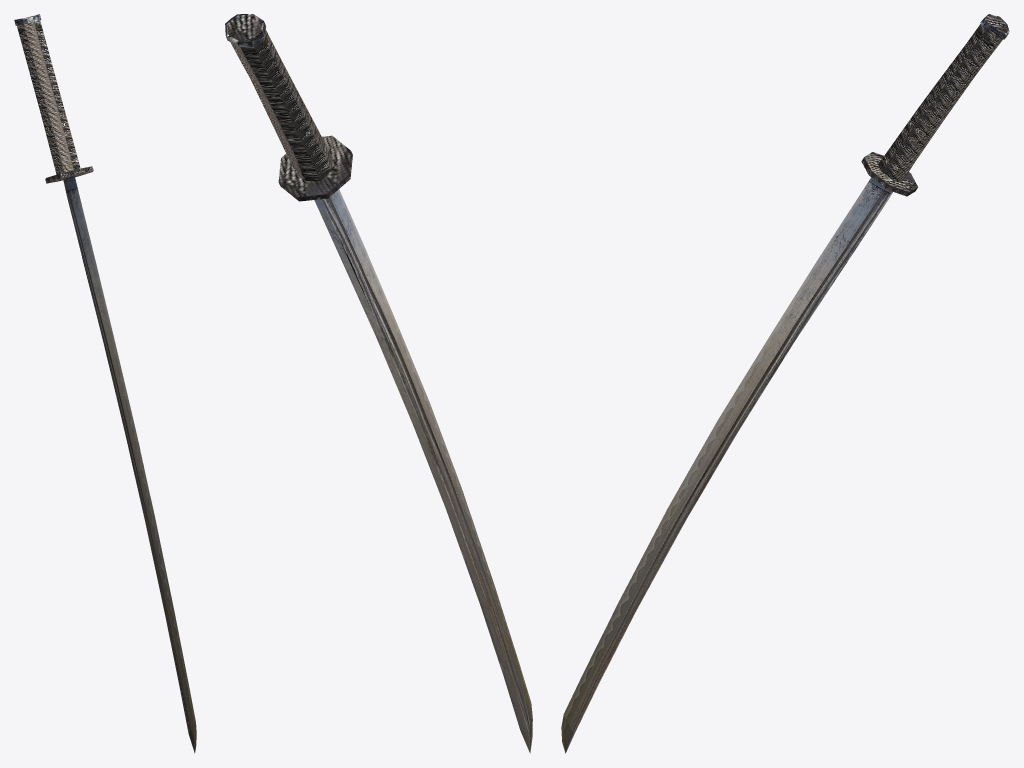
The model's file is katanaparagus.fbx.
The picture shows the model from 3 angles, left to right: view 1: azimuth 30°, elevation 25°; view 2: azimuth 150°, elevation 25°; view 3: azimuth 270°, elevation 25°; orthographic projection. The views are drawn at different scales.
Visible parts, largest first — view 1: Cylinder.001; view 2: Cylinder.001; view 3: Cylinder.001.
Boxes of the visible parts, x1,y1,x2,y2 form: Cylinder.001: (14, 14, 196, 753); Cylinder.001: (225, 14, 532, 753); Cylinder.001: (561, 14, 1009, 753).
Size of the model in its own units: 45.77 by 592 by 324.
1 material, 1 textured.
